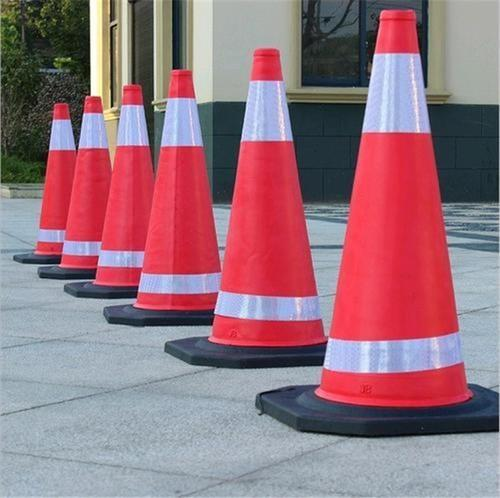cone_barrel: (301, 14, 479, 418), (199, 53, 325, 358), (129, 69, 221, 319), (93, 83, 160, 287), (58, 95, 112, 269), (27, 97, 79, 253)
